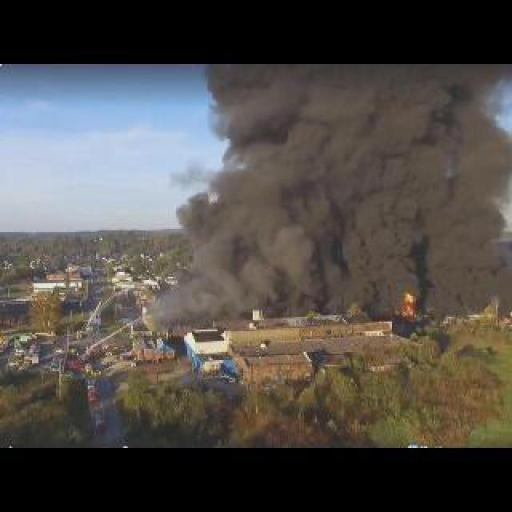smoke: (146, 64, 510, 318), (394, 288, 420, 318)
